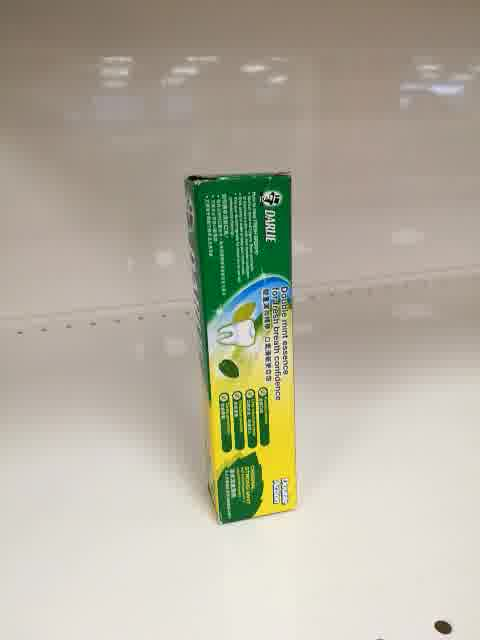toothpaste: (183, 172, 300, 526)
